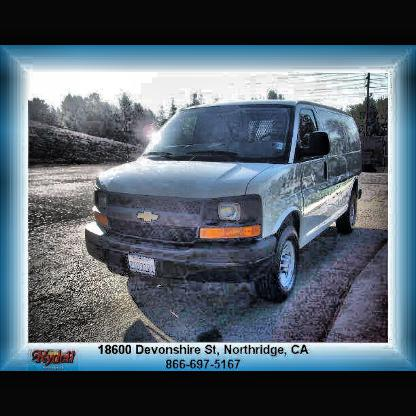Chevrolet Express Cargo Van 2007: (83, 98, 365, 305)
